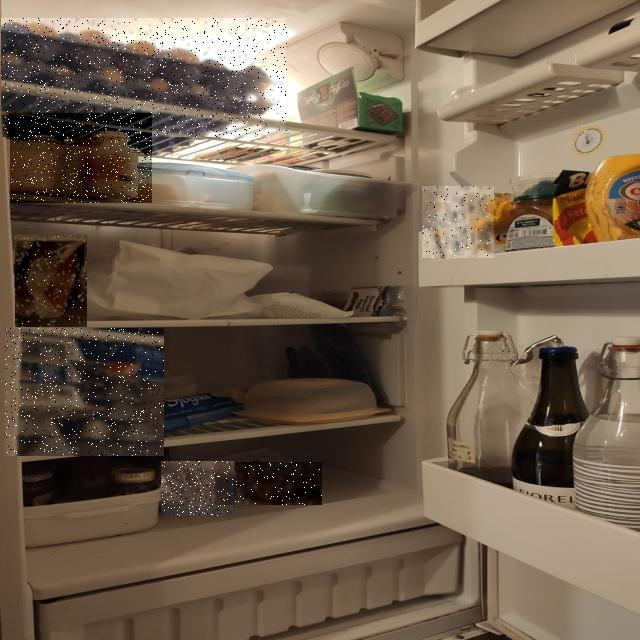Bacon: (215, 462, 322, 505), (161, 461, 234, 516)
Butter: (422, 186, 494, 258)
Cheese: (15, 235, 87, 327)
Eggs: (2, 18, 288, 137)
Yoghurt: (5, 328, 164, 456), (10, 113, 152, 203)
